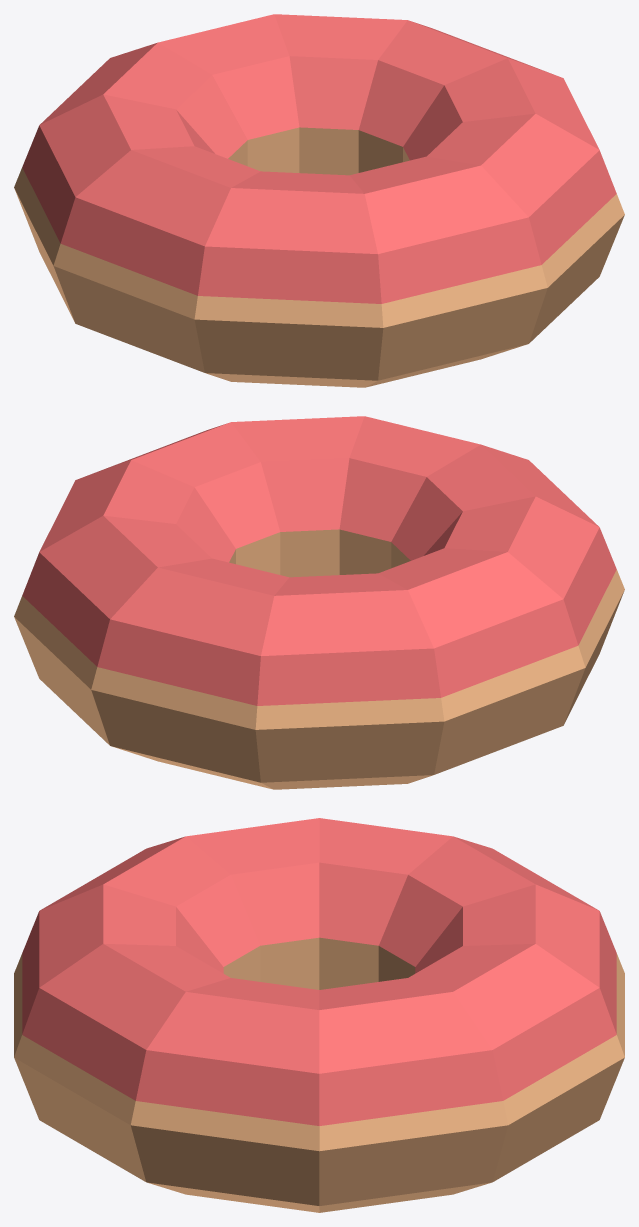
File: Dounut01.fbx
3 views of the same model, one above another, from view 1: azimuth 30°, elevation 25°; view 2: azimuth 150°, elevation 25°; view 3: azimuth 270°, elevation 25° (orthographic). The views are drawn at different scales.
Parts seen in each view (by area): view 1: Dounut; view 2: Dounut; view 3: Dounut.
Part boxes in pixels (x1,y1,x2,y2): Dounut: [14, 14, 624, 387]; Dounut: [14, 416, 624, 789]; Dounut: [14, 818, 624, 1212].
Size of the model in its own units: 328 by 114 by 312.
